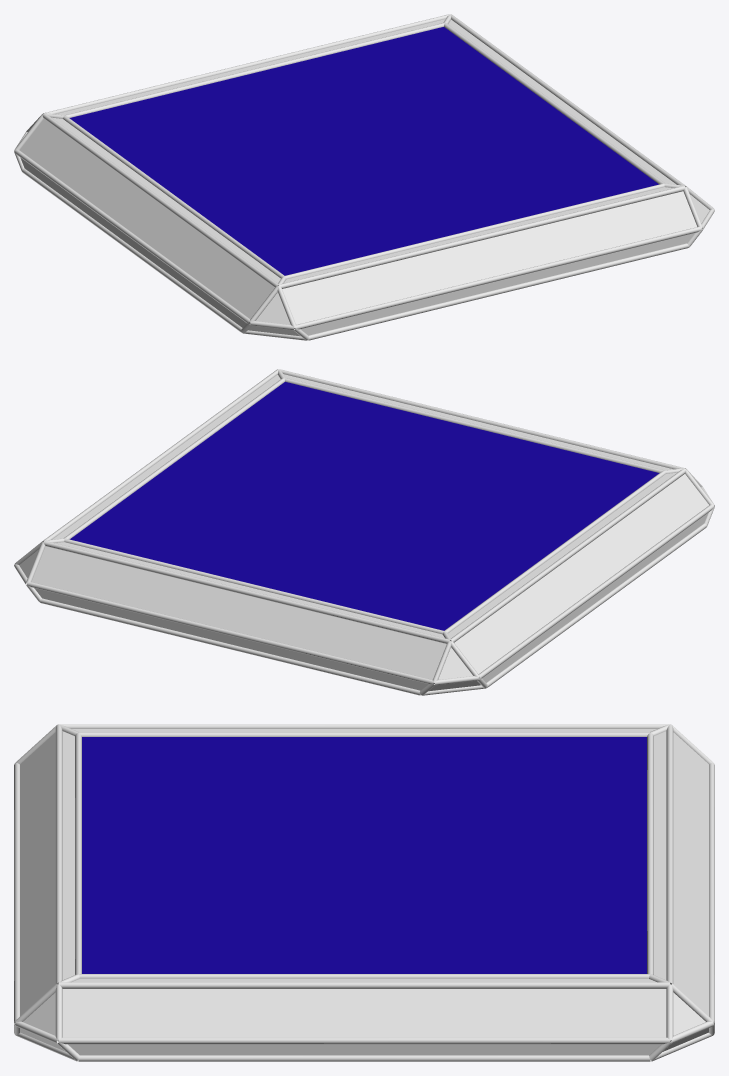
File: FloorOriginal.fbx
3 renders of one model, top to bottom at view 1: azimuth 30°, elevation 25°; view 2: azimuth 150°, elevation 25°; view 3: azimuth 270°, elevation 25°, orthographic. The views are drawn at different scales.
Parts seen in each view (by area): view 1: Face, FloorBase, FlorWireline; view 2: Face, FloorBase, FlorWireline; view 3: Face, FloorBase, FlorWireline.
Part boxes in pixels (bbox=[...]): Face: bbox=[69, 27, 658, 275]; FloorBase: bbox=[20, 19, 709, 336]; FlorWireline: bbox=[14, 14, 714, 340]; Face: bbox=[70, 382, 659, 630]; FloorBase: bbox=[19, 374, 708, 691]; FlorWireline: bbox=[14, 369, 714, 695]; Face: bbox=[82, 737, 646, 973]; FloorBase: bbox=[20, 729, 708, 1055]; FlorWireline: bbox=[14, 724, 714, 1061].
Bounding box in the file's own units: 202 × 19.6 × 202.
